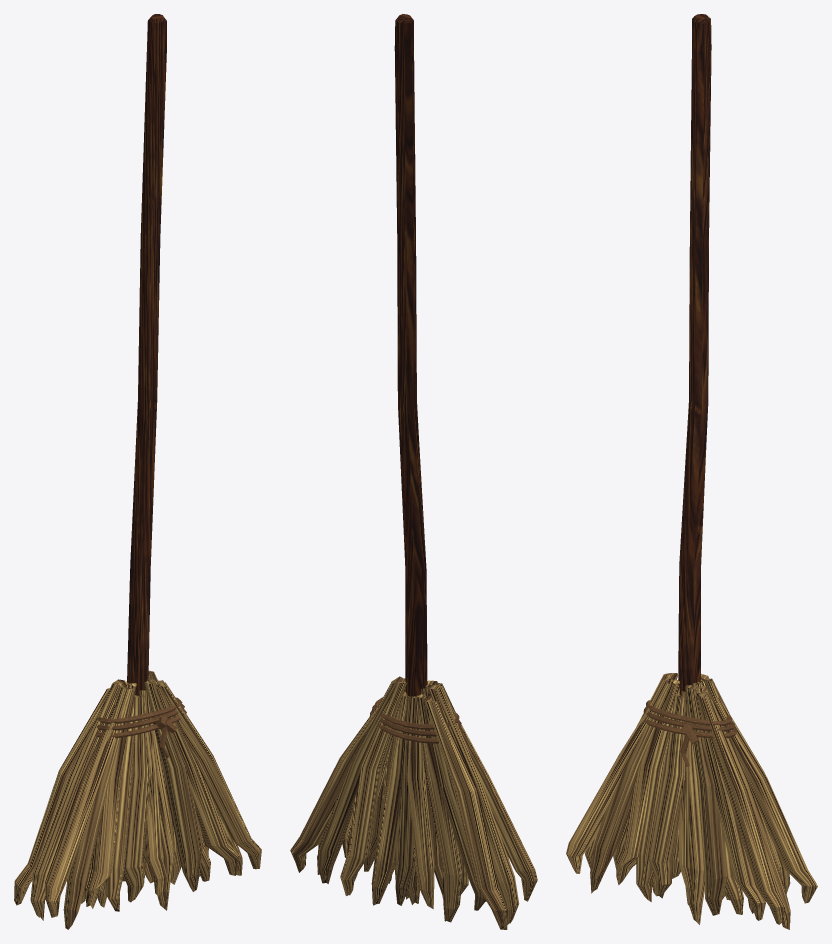
Rendered from Vassoura-de-Palha.glb.
3 views of the same model, side by side, from view 1: azimuth 30°, elevation 25°; view 2: azimuth 150°, elevation 25°; view 3: azimuth 330°, elevation 25° (orthographic).
Parts seen in each view (by area): view 1: Palha, Cabo, Amarração; view 2: Palha, Cabo, Amarração; view 3: Palha, Cabo, Amarração.
Boxes of the visible parts, x1,y1,x2,y2 form: Palha: (14,670,261,929); Cabo: (127,14,166,695); Amarração: (95,697,186,738); Palha: (290,676,537,929); Cabo: (394,14,427,696); Amarração: (370,697,462,743); Palha: (566,673,817,929); Cabo: (678,14,711,694); Amarração: (642,700,736,738).
Bounding box in the file's own units: 0.364 × 1.41 × 0.1096.
3 materials, 3 textured.
